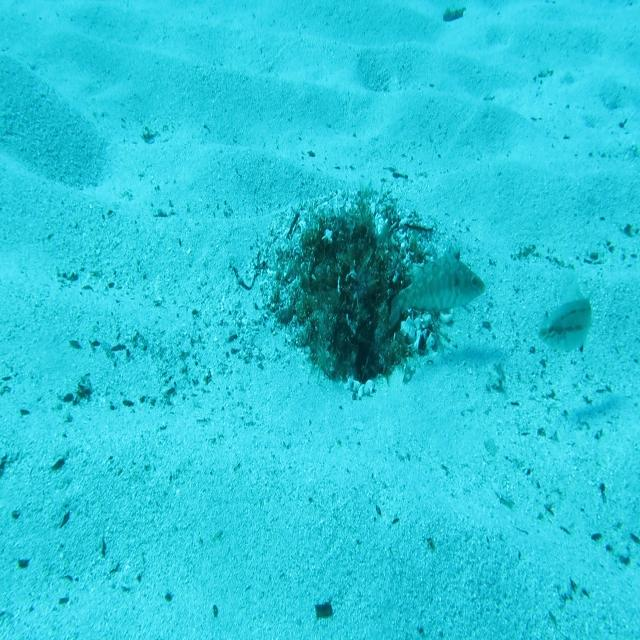MAF: (386, 242, 487, 331)
core_nest: (328, 224, 372, 280)
female: (535, 264, 593, 354)
nest: (253, 157, 472, 404)
vegetation: (438, 6, 465, 23), (314, 602, 335, 618)
